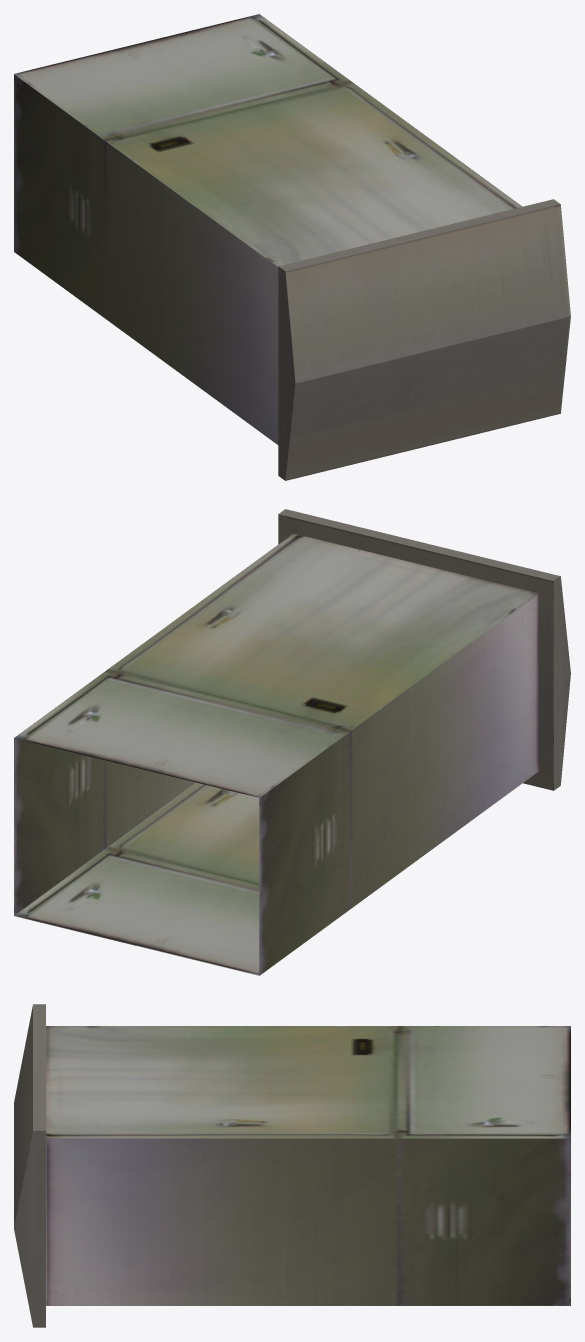
File: ftzbzsb-dzx-184-geode.glb
3 renders of one model, top to bottom at view 1: azimuth 30°, elevation 25°; view 2: azimuth 150°, elevation 25°; view 3: azimuth 270°, elevation 25°, orthographic. The views are drawn at different scales.
Visible parts, largest first — view 1: Node; view 2: Node; view 3: Node.
Part boxes in pixels (x1,y1,x2,y2): Node: (14,14,570,480); Node: (14,509,570,975); Node: (14,1004,570,1327).
Bounding box in the file's own units: 0.7295 × 0.5302 × 1.36.
Materials: 1 (1 with a texture image).
